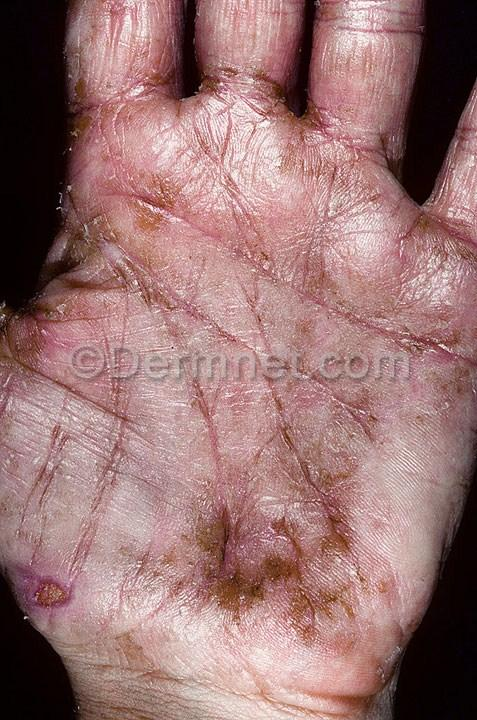Eczema: (129, 482, 406, 680), (0, 179, 170, 369)
